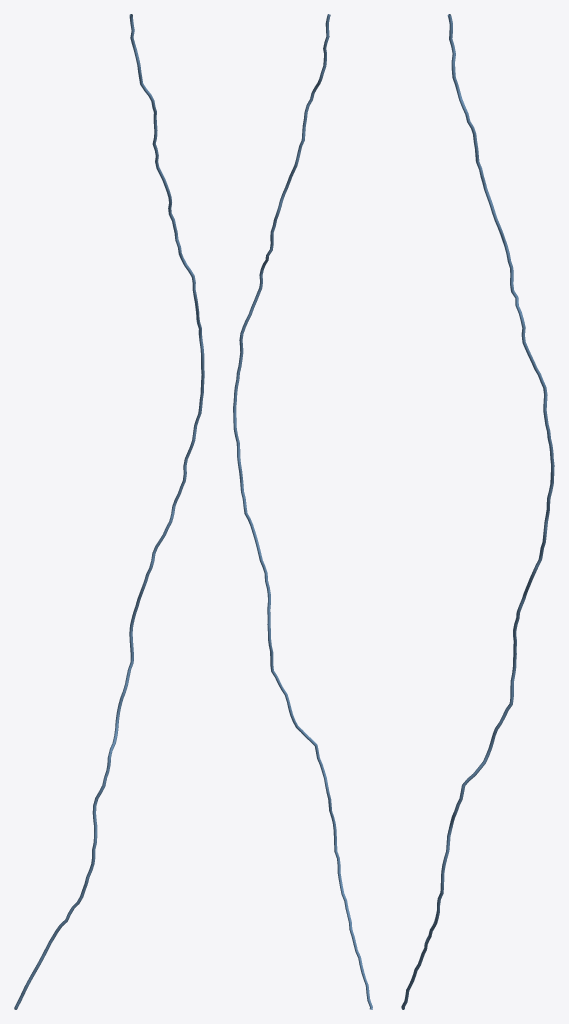
File: sweep76.fbx
3 views of the same model, side by side, from view 1: azimuth 30°, elevation 25°; view 2: azimuth 150°, elevation 25°; view 3: azimuth 330°, elevation 25° (orthographic). The views are drawn at different scales.
Visible parts, largest first — view 1: sweep76; view 2: sweep76; view 3: sweep76.
Boxes of the visible parts, bbox=[...] form: sweep76: bbox=[14, 14, 204, 1009]; sweep76: bbox=[233, 14, 372, 1009]; sweep76: bbox=[401, 14, 554, 1009].
Size of the model in its own units: 1.15 by 6.58 by 0.4733.
